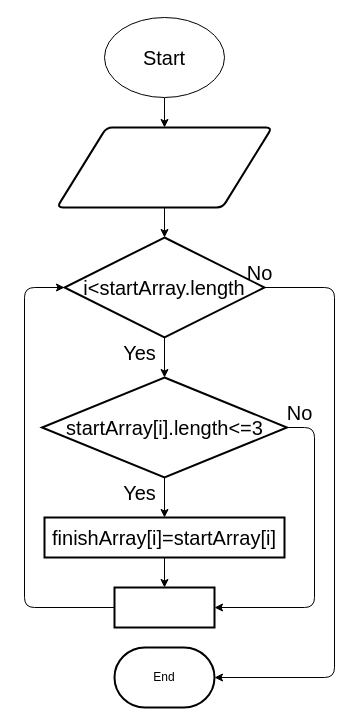
Some shapes in this 360 by 726 pixel diagram are drawn without their labels. The centre of each missing label's shape, as x and y in pixels:
"i=i+1" goes at point (164, 607).
"startArray[] i=0 finishArray[0]" goes at point (164, 167).
